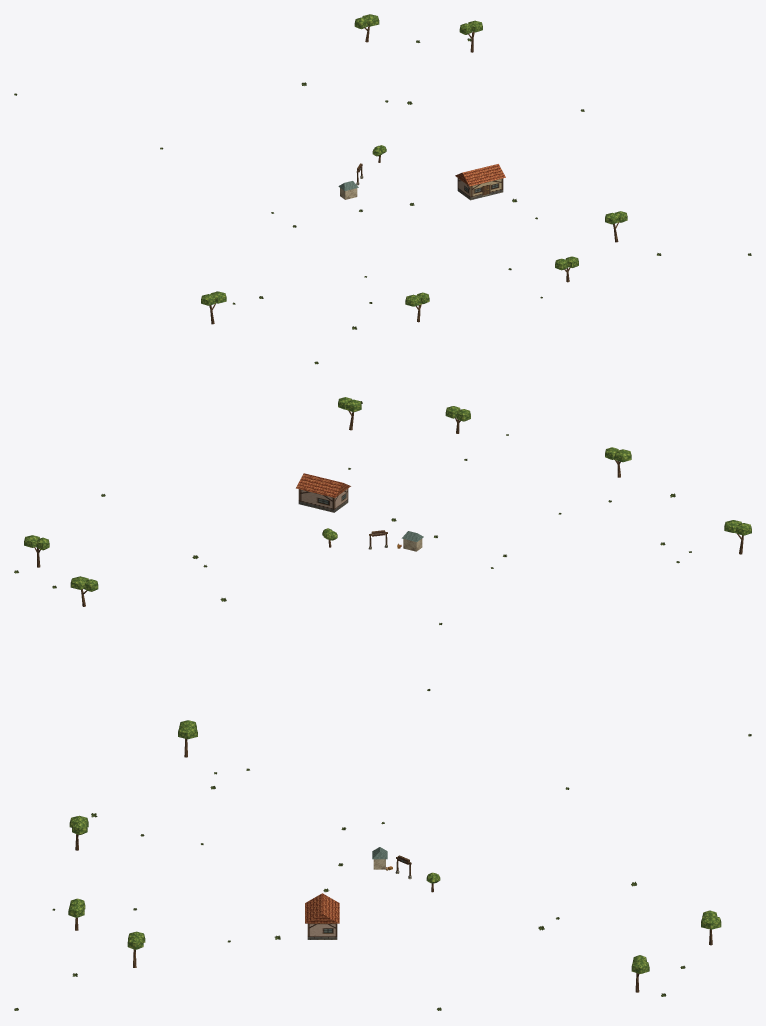
File: FieldCell_2_1.fbx
3 renders of one model, top to bottom at view 1: azimuth 30°, elevation 25°; view 2: azimuth 150°, elevation 25°; view 3: azimuth 270°, elevation 25°, orthographic. The views are drawn at different scales.
Parts seen in each view (by area): view 1: FieldCell_2_1; view 2: FieldCell_2_1; view 3: FieldCell_2_1.
Boxes of the visible parts, left/top/right/bottom form: FieldCell_2_1: left=201, top=14, right=627, bottom=324; FieldCell_2_1: left=24, top=397, right=751, bottom=606; FieldCell_2_1: left=68, top=720, right=721, bottom=992.
Bounding box in the file's own units: 13779 × 1398 × 15397.
